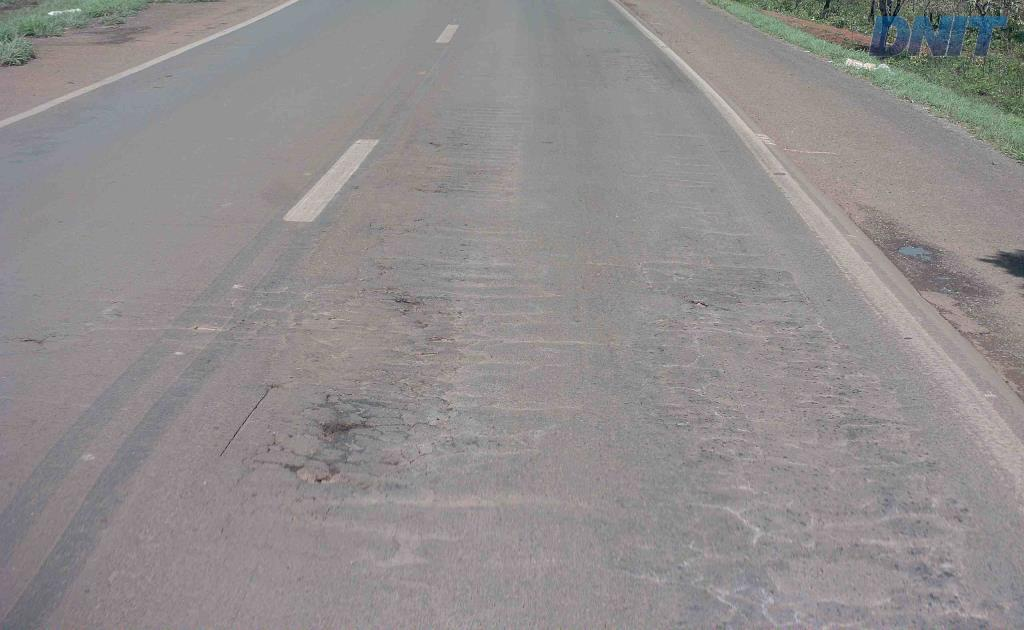pothole: (289, 464, 342, 485), (319, 418, 376, 437), (686, 298, 711, 309)
